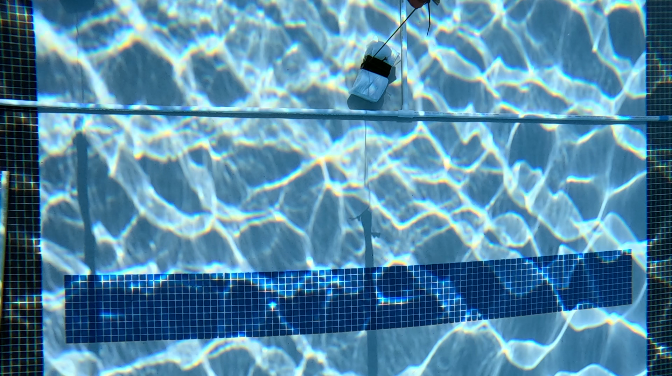sandbag: (351, 38, 401, 103)
